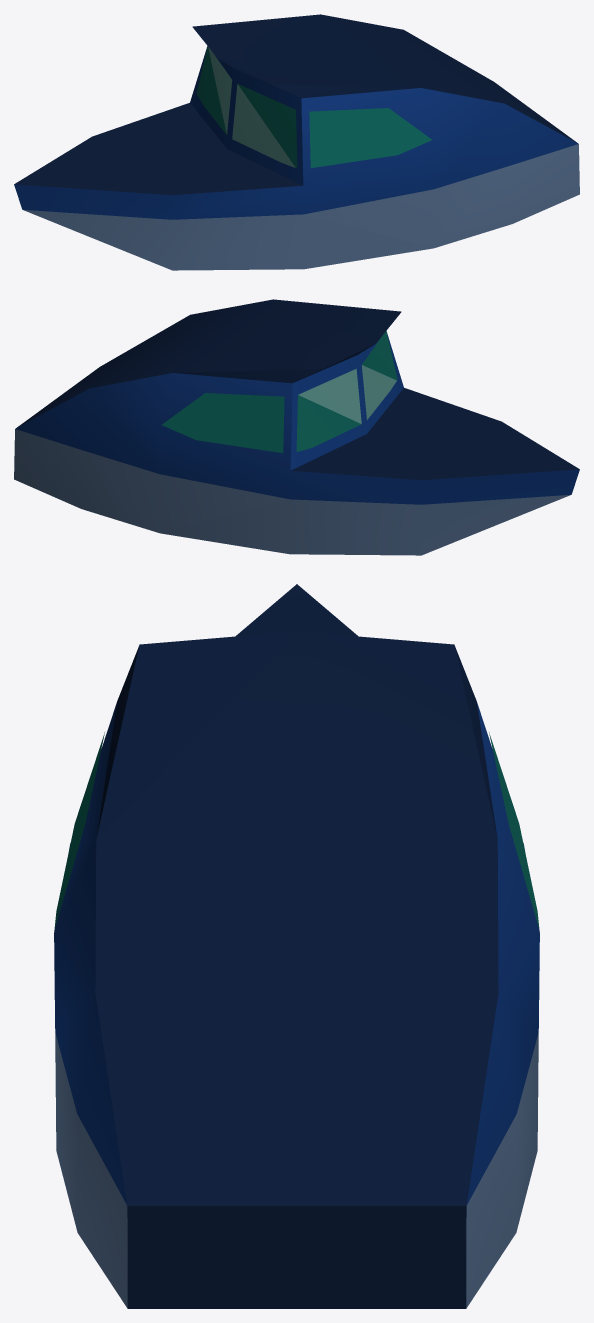
File: Boatfast.FBX
3 renders of one model, top to bottom at view 1: azimuth 30°, elevation 25°; view 2: azimuth 150°, elevation 25°; view 3: azimuth 270°, elevation 25°, orthographic. The views are drawn at different scales.
Parts seen in each view (by area): view 1: Object001; view 2: Object001; view 3: Object001.
Boxes of the visible parts, bbox=[...] form: Object001: bbox=[14, 14, 579, 270]; Object001: bbox=[14, 299, 579, 555]; Object001: bbox=[54, 584, 539, 1308].
Size of the model in its own units: 84.88 by 28.45 by 34.1.
